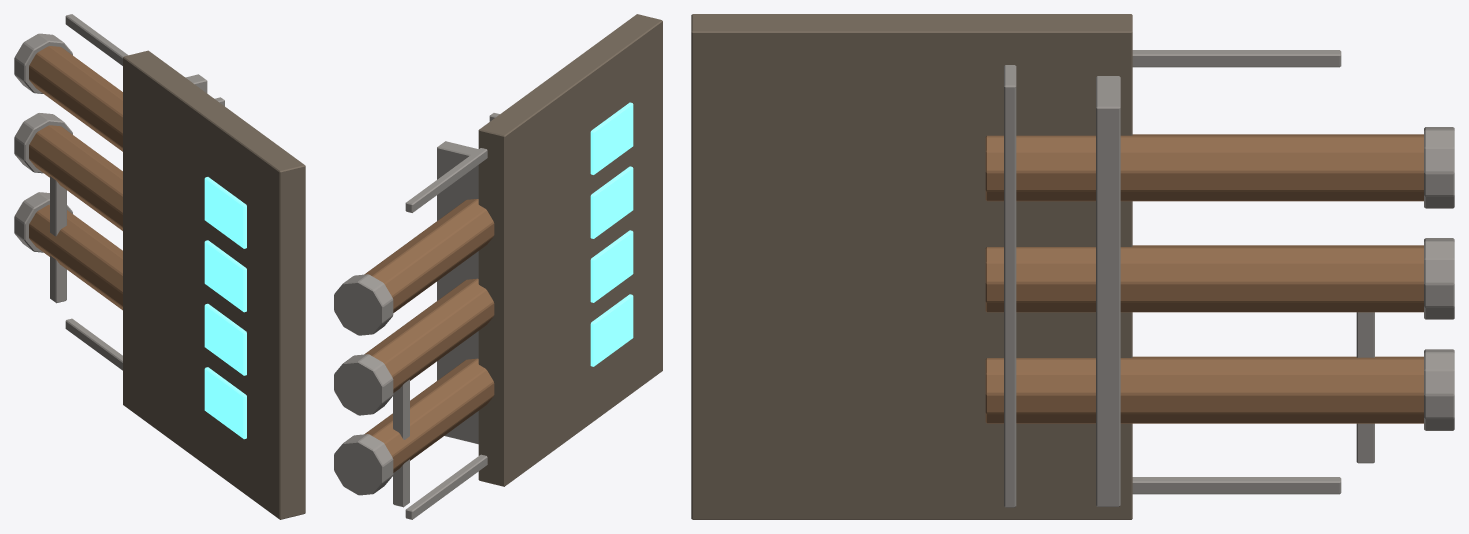
The model's file is facade_stack_r.glb.
3 views of the same model, side by side, from view 1: azimuth 30°, elevation 25°; view 2: azimuth 150°, elevation 25°; view 3: azimuth 270°, elevation 25° (orthographic). The views are drawn at different scales.
Visible parts, largest first — view 1: FacadeStack_R; view 2: FacadeStack_R; view 3: FacadeStack_R.
Boxes of the visible parts, x1,y1,x2,y2 form: FacadeStack_R: (14, 14, 305, 519); FacadeStack_R: (334, 14, 662, 519); FacadeStack_R: (691, 14, 1454, 519).
Bounding box in the file's own units: 1 × 4.4 × 6.23.
